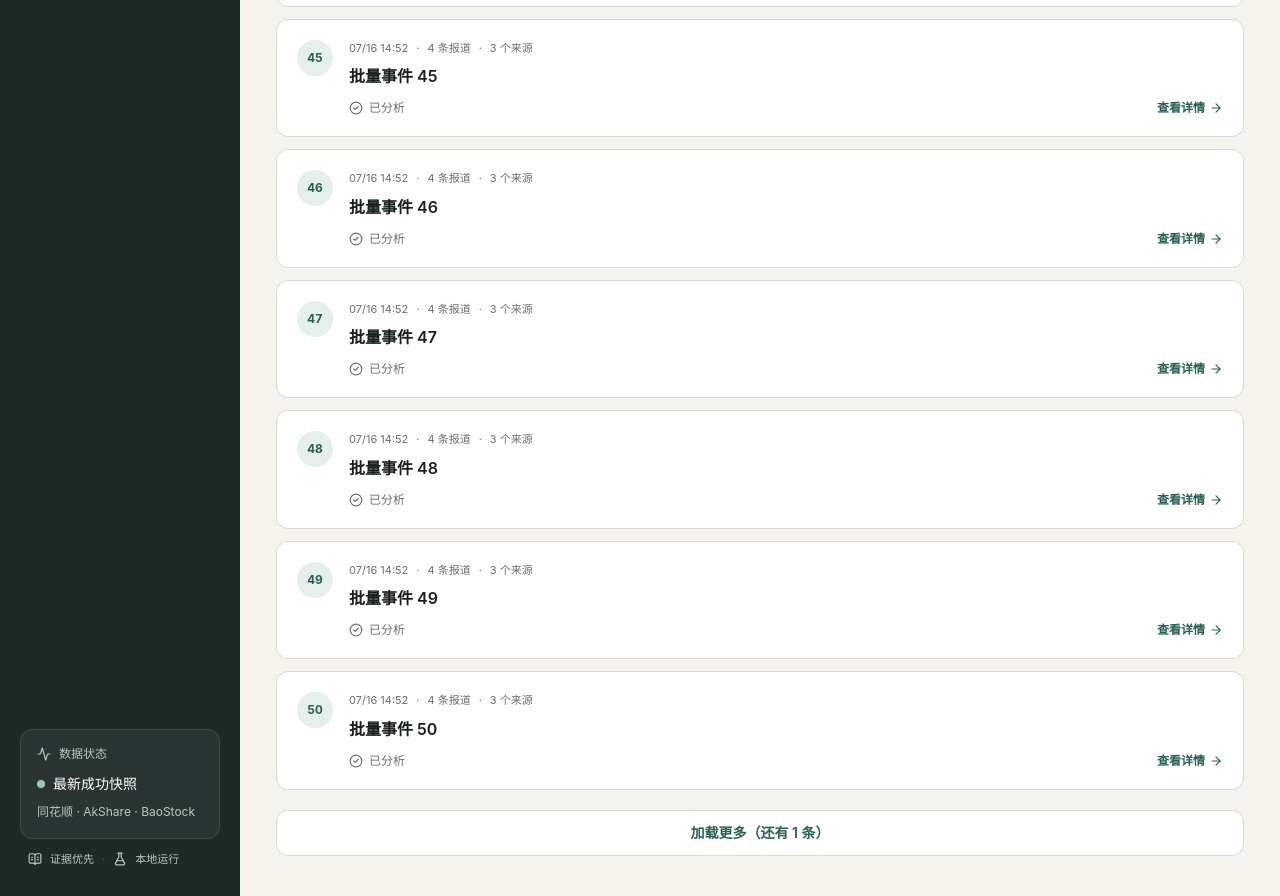
Test: event catalog pages › loads the event catalog in batches of fifty
This screenshot has width=1280, height=896.
(page scrolled)
expect the heading "批量事件 50" is shown: met, box [349,718,437,738]
expect the text "批量事件 51" is not shown: met
Click the button "加载更多（还有 1 条）" at (760, 832), box [276,810,1244,856]
(page scrolled)
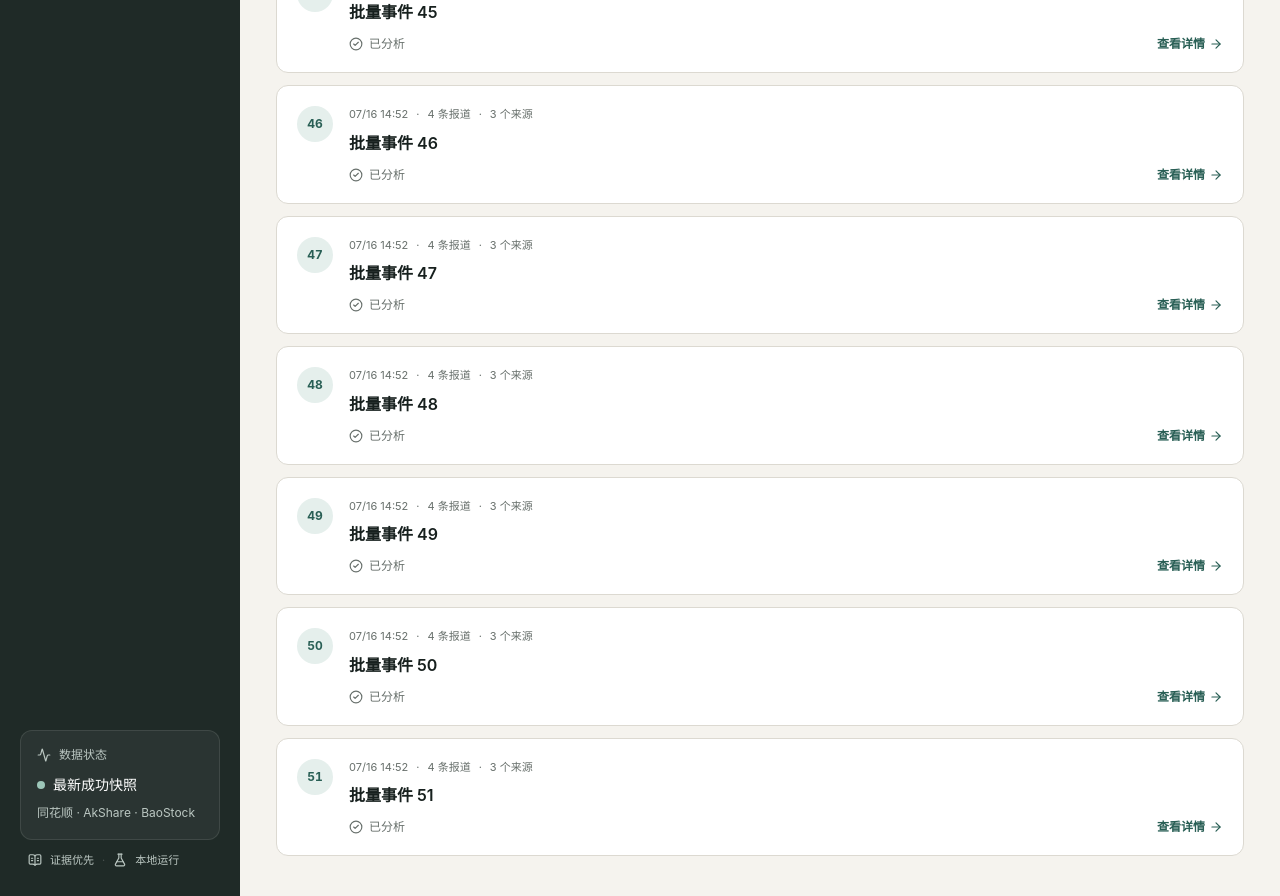
expect the heading "批量事件 51" is shown: met, box [349,785,434,805]
